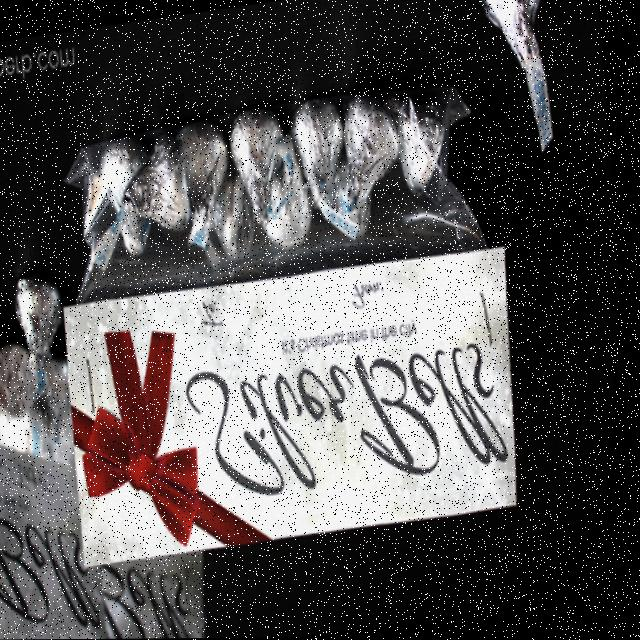kisses: (111, 129, 204, 251), (166, 107, 245, 250), (333, 83, 415, 219), (282, 82, 362, 218), (221, 99, 301, 233), (385, 74, 463, 207), (9, 266, 78, 384), (469, 0, 562, 81), (34, 346, 91, 457), (0, 343, 58, 433)
